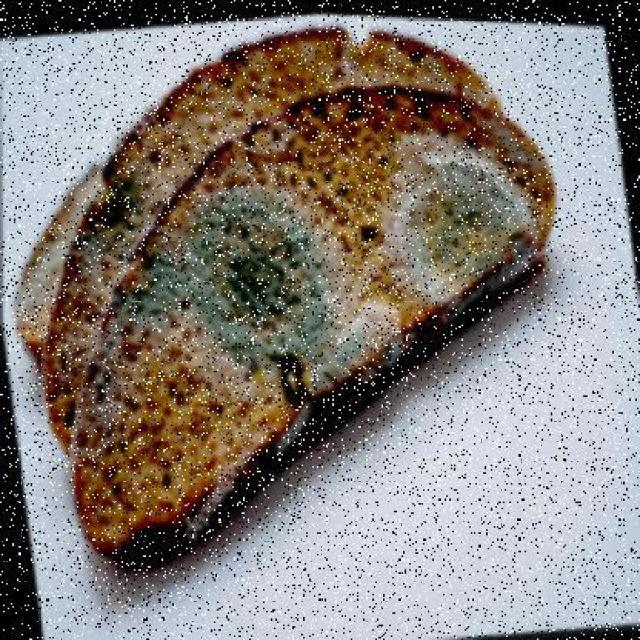Wet: (40, 43, 580, 520)
